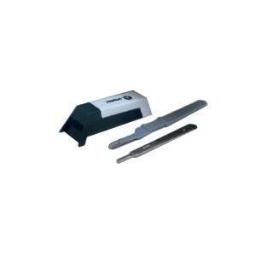scalpel: (109, 100, 207, 150)
